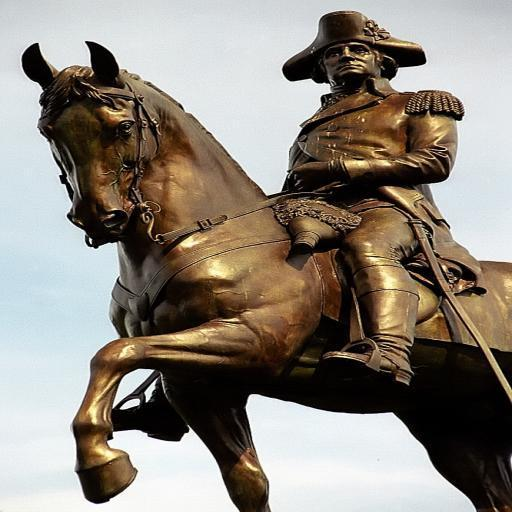horse: (18, 38, 511, 512)
